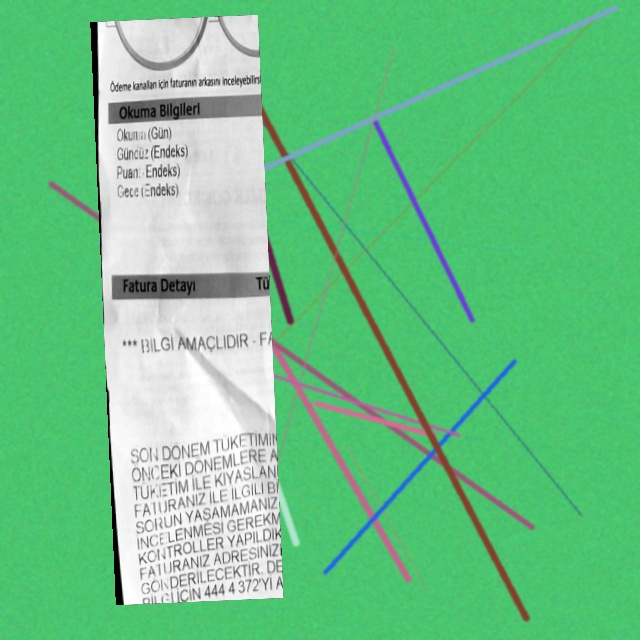electricity-bill: (89, 15, 283, 605)
